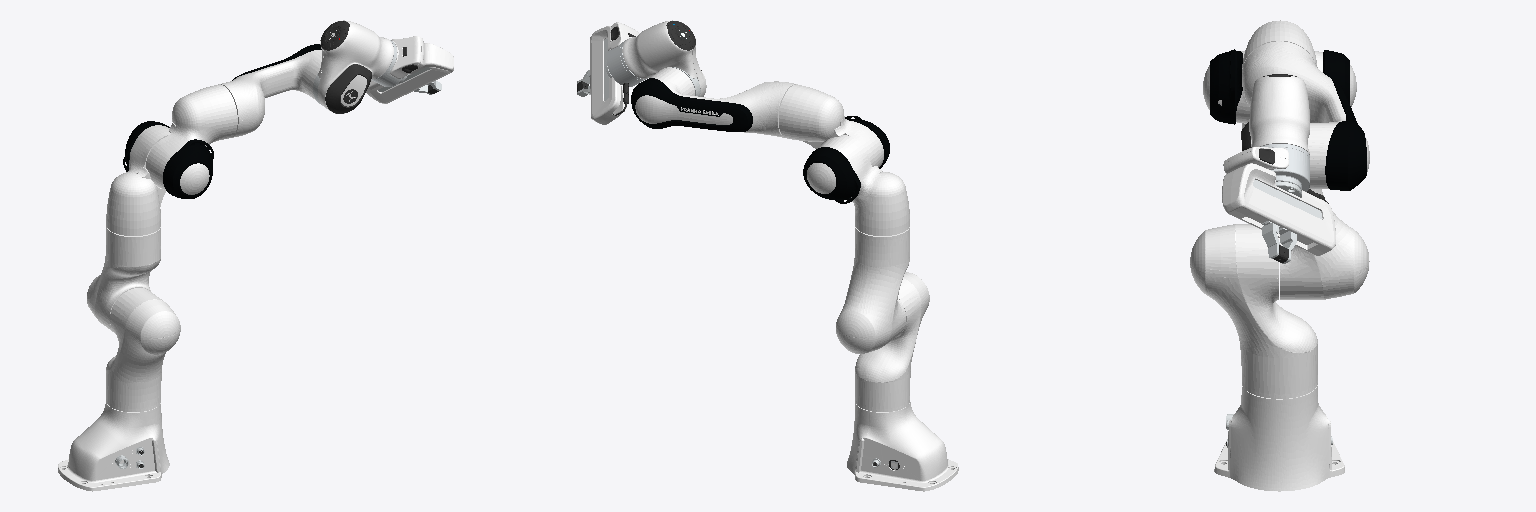
URDF robot description (fr3):
<?xml version="1.0" ?>
<!-- =================================================================================== -->
<!-- |    This document was autogenerated by xacro from [local-path]/franka_description/franka_description/robots/fr3/fr3.urdf.xacro | -->
<!-- |    EDITING THIS FILE BY HAND IS NOT RECOMMENDED                                 | -->
<!-- =================================================================================== -->
<robot name="fr3">
  <!-- safety_distance: Minimum safety distance in [m] by which the collision volumes are expanded and which is enforced during robot motions -->
  <!-- arm_id: Namespace of the robot arm. Serves to differentiate between arms in case of multiple instances. -->
  <!-- joint_limits: description of the joint limits that comes from a YAML file. Example definition: ${xacro.load_yaml('$(find franka_description)/robots/fr3/joint_limits.yaml')} -->
  <!-- kinematics: description of the kinematics that comes from a YAML file. Example definition: ${xacro.load_yaml('$(find franka_description)/robots/fr3/kinematics.yaml')} -->
  <!-- inertials: description of the inertials that comes from a YAML file. Example definition: ${xacro.load_yaml('$(find franka_description)/robots/fr3/inertials.yaml')} -->
  <!-- dynamics: description of the dynamics that comes from a YAML file. Example definition: ${xacro.load_yaml('$(find franka_description)/robots/fr3/dynamics.yaml')} -->
  <link name="base">
      </link>
  <joint name="base_joint" type="fixed">
    <parent link="base"/>
    <child link="fr3_link0"/>
    <origin rpy="0 0 0" xyz="0 0 0"/>
  </joint>
  <!-- sub-link defining detailed meshes for collision with environment -->
  <link name="fr3_link0">
    <visual name="fr3_link0_visual">
      <geometry>
        <mesh filename="package://franka_description/meshes/robot_arms/fr3/visual/link0.dae"/>
      </geometry>
    </visual>
    <collision name="fr3_link0_collision">
      <geometry>
        <mesh filename="package://franka_description/meshes/robot_arms/fr3/collision/link0.stl"/>
      </geometry>
    </collision>
    <inertial>
      <origin rpy="0 0 0" xyz="-0.0172 0.0004 0.0745"/>
      <mass value="2.3966"/>
      <inertia ixx="0.009" ixy="0.0" ixz="0.002" iyy="0.0115" iyz="0.0" izz="0.0085"/>
    </inertial>
  </link>
  <!-- sub-link defining detailed meshes for collision with environment -->
  <link name="fr3_link1">
    <visual name="fr3_link1_visual">
      <geometry>
        <mesh filename="package://franka_description/meshes/robot_arms/fr3/visual/link1.dae"/>
      </geometry>
    </visual>
    <collision name="fr3_link1_collision">
      <geometry>
        <mesh filename="package://franka_description/meshes/robot_arms/fr3/collision/link1.stl"/>
      </geometry>
    </collision>
    <inertial>
      <origin rpy="0 0 0" xyz="0.0000004128 -0.0181251324 -0.0386035970"/>
      <mass value="2.9274653454"/>
      <inertia ixx="0.023927316485107913" ixy="1.3317903455714081e-05" ixz="-0.00011404774918616684" iyy="0.0224821613275756" iyz="-0.0019950320628240115" izz="0.006350098258530016"/>
    </inertial>
  </link>
  <joint name="fr3_joint1" type="revolute">
    <origin rpy="0 0 0" xyz="0 0 0.333"/>
    <parent link="fr3_link0"/>
    <child link="fr3_link1"/>
    <axis xyz="0 0 1"/>
    <limit effort="87.0" lower="-2.7437" upper="2.7437" velocity="2.62"/>
    <safety_controller k_position="100.0" k_velocity="40.0" soft_lower_limit="-2.7437" soft_upper_limit="2.7437"/>
    <dynamics D="1" K="7000" damping="0.003" friction="0.2" mu_coulomb="0" mu_viscous="16"/>
  </joint>
  <!-- sub-link defining detailed meshes for collision with environment -->
  <link name="fr3_link2">
    <visual name="fr3_link2_visual">
      <geometry>
        <mesh filename="package://franka_description/meshes/robot_arms/fr3/visual/link2.dae"/>
      </geometry>
    </visual>
    <collision name="fr3_link2_collision">
      <geometry>
        <mesh filename="package://franka_description/meshes/robot_arms/fr3/collision/link2.stl"/>
      </geometry>
    </collision>
    <inertial>
      <origin rpy="0 0 0" xyz="0.0031828864 -0.0743221644 0.0088146084"/>
      <mass value="2.9355370338"/>
      <inertia ixx="0.041938946257609425" ixy="0.00020257331521090626" ixz="0.004077784227179924" iyy="0.02514514885014724" iyz="-0.0042252158006570156" izz="0.06170214472888839"/>
    </inertial>
  </link>
  <joint name="fr3_joint2" type="revolute">
    <origin rpy="-1.570796326794897 0 0" xyz="0 0 0"/>
    <parent link="fr3_link1"/>
    <child link="fr3_link2"/>
    <axis xyz="0 0 1"/>
    <limit effort="87.0" lower="-1.7837" upper="1.7837" velocity="2.62"/>
    <safety_controller k_position="100.0" k_velocity="40.0" soft_lower_limit="-1.7837" soft_upper_limit="1.7837"/>
    <dynamics D="1" K="7000" damping="0.003" friction="0.2" mu_coulomb="0" mu_viscous="16"/>
  </joint>
  <!-- sub-link defining detailed meshes for collision with environment -->
  <link name="fr3_link3">
    <visual name="fr3_link3_visual">
      <geometry>
        <mesh filename="package://franka_description/meshes/robot_arms/fr3/visual/link3.dae"/>
      </geometry>
    </visual>
    <collision name="fr3_link3_collision">
      <geometry>
        <mesh filename="package://franka_description/meshes/robot_arms/fr3/collision/link3.stl"/>
      </geometry>
    </collision>
    <inertial>
      <origin rpy="0 0 0" xyz="0.0407015686 -0.0048200565 -0.0289730823"/>
      <mass value="2.2449013699"/>
      <inertia ixx="0.02410142547240885" ixy="0.002404694559042109" ixz="-0.002856269270114313" iyy="0.01974053266708178" iyz="-0.002104212683891874" izz="0.019044494482244823"/>
    </inertial>
  </link>
  <joint name="fr3_joint3" type="revolute">
    <origin rpy="1.570796326794897 0 0" xyz="0 -0.316 0"/>
    <parent link="fr3_link2"/>
    <child link="fr3_link3"/>
    <axis xyz="0 0 1"/>
    <limit effort="87.0" lower="-2.9007" upper="2.9007" velocity="2.62"/>
    <safety_controller k_position="100.0" k_velocity="40.0" soft_lower_limit="-2.9007" soft_upper_limit="2.9007"/>
    <dynamics D="1" K="7000" damping="0.003" friction="0.2" mu_coulomb="0" mu_viscous="16"/>
  </joint>
  <!-- sub-link defining detailed meshes for collision with environment -->
  <link name="fr3_link4">
    <visual name="fr3_link4_visual">
      <geometry>
        <mesh filename="package://franka_description/meshes/robot_arms/fr3/visual/link4.dae"/>
      </geometry>
    </visual>
    <collision name="fr3_link4_collision">
      <geometry>
        <mesh filename="package://franka_description/meshes/robot_arms/fr3/collision/link4.stl"/>
      </geometry>
    </collision>
    <inertial>
      <origin rpy="0 0 0" xyz="-0.0459100965 0.0630492960 -0.0085187868"/>
      <mass value="2.6155955791"/>
      <inertia ixx="0.03452998321913202" ixy="0.01322552265982813" ixz="0.01015142998484113" iyy="0.028881621933049058" iyz="-0.0009762833870704552" izz="0.04125471171146641"/>
    </inertial>
  </link>
  <joint name="fr3_joint4" type="revolute">
    <origin rpy="1.570796326794897 0 0" xyz="0.0825 0 0"/>
    <parent link="fr3_link3"/>
    <child link="fr3_link4"/>
    <axis xyz="0 0 1"/>
    <limit effort="87.0" lower="-3.0421" upper="-0.1518" velocity="2.62"/>
    <safety_controller k_position="100.0" k_velocity="40.0" soft_lower_limit="-3.0421" soft_upper_limit="-0.1518"/>
    <dynamics D="1" K="7000" damping="0.003" friction="0.2" mu_coulomb="0" mu_viscous="16"/>
  </joint>
  <!-- sub-link defining detailed meshes for collision with environment -->
  <link name="fr3_link5">
    <visual name="fr3_link5_visual">
      <geometry>
        <mesh filename="package://franka_description/meshes/robot_arms/fr3/visual/link5.dae"/>
      </geometry>
    </visual>
    <collision name="fr3_link5_collision">
      <geometry>
        <mesh filename="package://franka_description/meshes/robot_arms/fr3/collision/link5.stl"/>
      </geometry>
    </collision>
    <inertial>
      <origin rpy="0 0 0" xyz="-0.0016039605 0.0292536262 -0.0972965990"/>
      <mass value="2.3271207594"/>
      <inertia ixx="0.051610278463662895" ixy="-0.005715173387783472" ixz="-0.0035673167625872135" iyy="0.04787729713371481" iyz="0.010673985108535986" izz="0.016423625579357254"/>
    </inertial>
  </link>
  <joint name="fr3_joint5" type="revolute">
    <origin rpy="-1.570796326794897 0 0" xyz="-0.0825 0.384 0"/>
    <parent link="fr3_link4"/>
    <child link="fr3_link5"/>
    <axis xyz="0 0 1"/>
    <limit effort="12.0" lower="-2.8065" upper="2.8065" velocity="5.26"/>
    <safety_controller k_position="100.0" k_velocity="40.0" soft_lower_limit="-2.8065" soft_upper_limit="2.8065"/>
    <dynamics D="1" K="7000" damping="0.003" friction="0.2" mu_coulomb="0" mu_viscous="16"/>
  </joint>
  <!-- sub-link defining detailed meshes for collision with environment -->
  <link name="fr3_link6">
    <visual name="fr3_link6_visual">
      <geometry>
        <mesh filename="package://franka_description/meshes/robot_arms/fr3/visual/link6.dae"/>
      </geometry>
    </visual>
    <collision name="fr3_link6_collision">
      <geometry>
        <mesh filename="package://franka_description/meshes/robot_arms/fr3/collision/link6.stl"/>
      </geometry>
    </collision>
    <inertial>
      <origin rpy="0 0 0" xyz="0.0597131221 -0.0410294666 -0.0101692726"/>
      <mass value="1.8170376524"/>
      <inertia ixx="0.005412333594383447" ixy="0.006193456360285834" ixz="0.0014219289306117652" iyy="0.014058329545509979" iyz="-0.0013140753741120031" izz="0.016080817924212554"/>
    </inertial>
  </link>
  <joint name="fr3_joint6" type="revolute">
    <origin rpy="1.570796326794897 0 0" xyz="0 0 0"/>
    <parent link="fr3_link5"/>
    <child link="fr3_link6"/>
    <axis xyz="0 0 1"/>
    <limit effort="12.0" lower="0.5445" upper="4.5169" velocity="4.18"/>
    <safety_controller k_position="100.0" k_velocity="40.0" soft_lower_limit="0.5445" soft_upper_limit="4.5169"/>
    <dynamics D="1" K="7000" damping="0.003" friction="0.2" mu_coulomb="0" mu_viscous="16"/>
  </joint>
  <!-- sub-link defining detailed meshes for collision with environment -->
  <link name="fr3_link7">
    <visual name="fr3_link7_visual">
      <geometry>
        <mesh filename="package://franka_description/meshes/robot_arms/fr3/visual/link7.dae"/>
      </geometry>
    </visual>
    <collision name="fr3_link7_collision">
      <geometry>
        <mesh filename="package://franka_description/meshes/robot_arms/fr3/collision/link7.stl"/>
      </geometry>
    </collision>
    <inertial>
      <origin rpy="0 0 0" xyz="0.0045225817 0.0086261921 -0.0161633251"/>
      <mass value="0.6271432862"/>
      <inertia ixx="0.00021092389150104718" ixy="-2.433299114461931e-05" ixz="4.564480393778983e-05" iyy="0.00017718568002411474" iyz="8.744070223226438e-05" izz="5.993190599659971e-05"/>
    </inertial>
  </link>
  <joint name="fr3_joint7" type="revolute">
    <origin rpy="1.570796326794897 0 0" xyz="0.088 0 0"/>
    <parent link="fr3_link6"/>
    <child link="fr3_link7"/>
    <axis xyz="0 0 1"/>
    <limit effort="12.0" lower="-3.0159" upper="3.0159" velocity="5.26"/>
    <safety_controller k_position="100.0" k_velocity="40.0" soft_lower_limit="-3.0159" soft_upper_limit="3.0159"/>
    <dynamics D="1" K="7000" damping="0.003" friction="0.2" mu_coulomb="0" mu_viscous="16"/>
  </joint>
  <link name="fr3_link8"/>
  <joint name="fr3_joint8" type="fixed">
    <origin rpy="0 0 0" xyz="0 0 0.107"/>
    <parent link="fr3_link7"/>
    <child link="fr3_link8"/>
  </joint>
  <joint name="fr3_hand_joint" type="fixed">
    <parent link="fr3_link8"/>
    <child link="fr3_hand"/>
    <origin rpy="0 0 -0.7853981633974483" xyz="0 0 0"/>
  </joint>
  <!-- sub-link defining detailed meshes for collision with environment -->
  <link name="fr3_hand">
    <visual name="fr3_hand_visual">
      <geometry>
        <mesh filename="package://franka_description/meshes/robot_ee/franka_hand_white/visual/hand.dae"/>
      </geometry>
    </visual>
    <collision name="fr3_hand_collision">
      <geometry>
        <mesh filename="package://franka_description/meshes/robot_ee/franka_hand_white/collision/hand.stl"/>
      </geometry>
    </collision>
    <inertial>
      <origin rpy="0 0 0" xyz="-0.01 0 0.03"/>
      <mass value="0.73"/>
      <inertia ixx="0.001" ixy="0" ixz="0" iyy="0.0025" iyz="0" izz="0.0017"/>
    </inertial>
  </link>
  <!-- Define the hand_tcp frame -->
  <link name="fr3_hand_tcp"/>
  <joint name="fr3_hand_tcp_joint" type="fixed">
    <origin rpy="0 0 0" xyz="0 0 0.1034"/>
    <parent link="fr3_hand"/>
    <child link="fr3_hand_tcp"/>
  </joint>
  <link name="fr3_leftfinger">
    <visual name="fr3_leftfinger_visual">
      <geometry>
        <mesh filename="package://franka_description/meshes/robot_ee/franka_hand_white/visual/finger.dae"/>
      </geometry>
    </visual>
    <!-- screw mount -->
    <collision>
      <origin rpy="0 0 0" xyz="0 18.5e-3 11e-3"/>
      <geometry>
        <box size="22e-3 15e-3 20e-3"/>
      </geometry>
    </collision>
    <!-- cartriage sledge -->
    <collision>
      <origin rpy="0 0 0" xyz="0 6.8e-3 2.2e-3"/>
      <geometry>
        <box size="22e-3 8.8e-3 3.8e-3"/>
      </geometry>
    </collision>
    <!-- diagonal finger -->
    <collision>
      <origin rpy="0.5235987755982988 0 0" xyz="0 15.9e-3 28.35e-3"/>
      <geometry>
        <box size="17.5e-3 7e-3 23.5e-3"/>
      </geometry>
    </collision>
    <!-- rubber tip with which to grasp -->
    <collision>
      <origin rpy="0 0 0" xyz="0 7.58e-3 45.25e-3"/>
      <geometry>
        <box size="17.5e-3 15.2e-3 18.5e-3"/>
      </geometry>
    </collision>
  </link>
  <link name="fr3_rightfinger">
    <visual name="fr3_rightfinger_visual">
      <origin rpy="0 0 3.141592653589793" xyz="0 0 0"/>
      <geometry>
        <mesh filename="package://franka_description/meshes/robot_ee/franka_hand_white/visual/finger.dae"/>
      </geometry>
    </visual>
    <!-- screw mount -->
    <collision>
      <origin rpy="0 0 0" xyz="0 -18.5e-3 11e-3"/>
      <geometry>
        <box size="22e-3 15e-3 20e-3"/>
      </geometry>
    </collision>
    <!-- cartriage sledge -->
    <collision>
      <origin rpy="0 0 0" xyz="0 -6.8e-3 2.2e-3"/>
      <geometry>
        <box size="22e-3 8.8e-3 3.8e-3"/>
      </geometry>
    </collision>
    <!-- diagonal finger -->
    <collision>
      <origin rpy="-0.5235987755982988 0 0" xyz="0 -15.9e-3 28.35e-3"/>
      <geometry>
        <box size="17.5e-3 7e-3 23.5e-3"/>
      </geometry>
    </collision>
    <!-- rubber tip with which to grasp -->
    <collision>
      <origin rpy="0 0 0" xyz="0 -7.58e-3 45.25e-3"/>
      <geometry>
        <box size="17.5e-3 15.2e-3 18.5e-3"/>
      </geometry>
    </collision>
  </link>
  <joint name="fr3_finger_joint1" type="fixed">
    <parent link="fr3_hand"/>
    <child link="fr3_leftfinger"/>
    <origin rpy="0 0 0" xyz="0 0 0.0584"/>
    <axis xyz="0 1 0"/>
    <limit effort="100" lower="0.0" upper="0.04" velocity="0.2"/>
    <dynamics damping="0.3"/>
  </joint>
  <joint name="fr3_finger_joint2" type="fixed">
    <parent link="fr3_hand"/>
    <child link="fr3_rightfinger"/>
    <origin rpy="0 0 0" xyz="0 0 0.0584"/>
    <axis xyz="0 -1 0"/>
    <limit effort="100" lower="0.0" upper="0.04" velocity="0.2"/>
    <mimic joint="fr3_finger_joint1"/>
    <dynamics damping="0.3"/>
  </joint>
</robot>

--- What the picture shows (computed from the rendered views, not written in the file) ---
The picture shows the robot from 3 angles, left to right: view 1: azimuth 30°, elevation 25°; view 2: azimuth 150°, elevation 25°; view 3: azimuth 270°, elevation 25°; orthographic projection.
Robot: fr3 — 14 links, 13 joints (7 revolute, 6 fixed); root link base; default pose: joints at zero except 2 at the middle of their limits (fr3_joint4 = -1.6, fr3_joint6 = 2.53).
Links seen in each view (by area): view 1: fr3_link0, fr3_link1, fr3_link4, fr3_link6, fr3_link3, fr3_link5, fr3_link2, fr3_hand, fr3_link7; view 2: fr3_link0, fr3_link5, fr3_link2, fr3_link3, fr3_link1, fr3_link4, fr3_link6, fr3_hand, fr3_link7; view 3: fr3_link1, fr3_link0, fr3_link5, fr3_hand, fr3_link2, fr3_link6, fr3_link4, fr3_link7, fr3_link3, fr3_leftfinger.
Link boxes in pixels (<box>): fr3_link0: <box>58,403,169,491</box>; fr3_link1: <box>106,288,180,411</box>; fr3_link4: <box>146,84,237,198</box>; fr3_link6: <box>313,20,393,113</box>; fr3_link3: <box>106,121,170,235</box>; fr3_link5: <box>221,44,321,137</box>; fr3_link2: <box>87,227,160,331</box>; fr3_hand: <box>366,43,453,103</box>; fr3_link7: <box>371,36,423,86</box>; fr3_link0: <box>847,402,958,491</box>; fr3_link5: <box>631,67,795,137</box>; fr3_link2: <box>836,227,909,353</box>; fr3_link3: <box>803,135,909,235</box>; fr3_link1: <box>855,272,929,411</box>; fr3_link4: <box>779,84,889,168</box>; fr3_link6: <box>622,20,706,96</box>; fr3_hand: <box>590,26,628,124</box>; fr3_link7: <box>607,22,645,86</box>; fr3_link1: <box>1190,224,1317,398</box>; fr3_link0: <box>1214,385,1344,491</box>; fr3_link5: <box>1242,41,1369,190</box>; fr3_hand: <box>1222,163,1335,255</box>; fr3_link2: <box>1280,189,1369,299</box>; fr3_link6: <box>1241,74,1309,154</box>; fr3_link4: <box>1203,20,1317,124</box>; fr3_link7: <box>1223,144,1309,191</box>; fr3_link3: <box>1242,50,1356,128</box>; fr3_leftfinger: <box>1262,221,1283,260</box>.
Bounding box of the posed robot: 0.8595 × 0.2593 × 0.8578 m (x, y, z).
Meshes: 10 distinct files referenced, 11 mesh visuals loaded (10 Collada DAE).